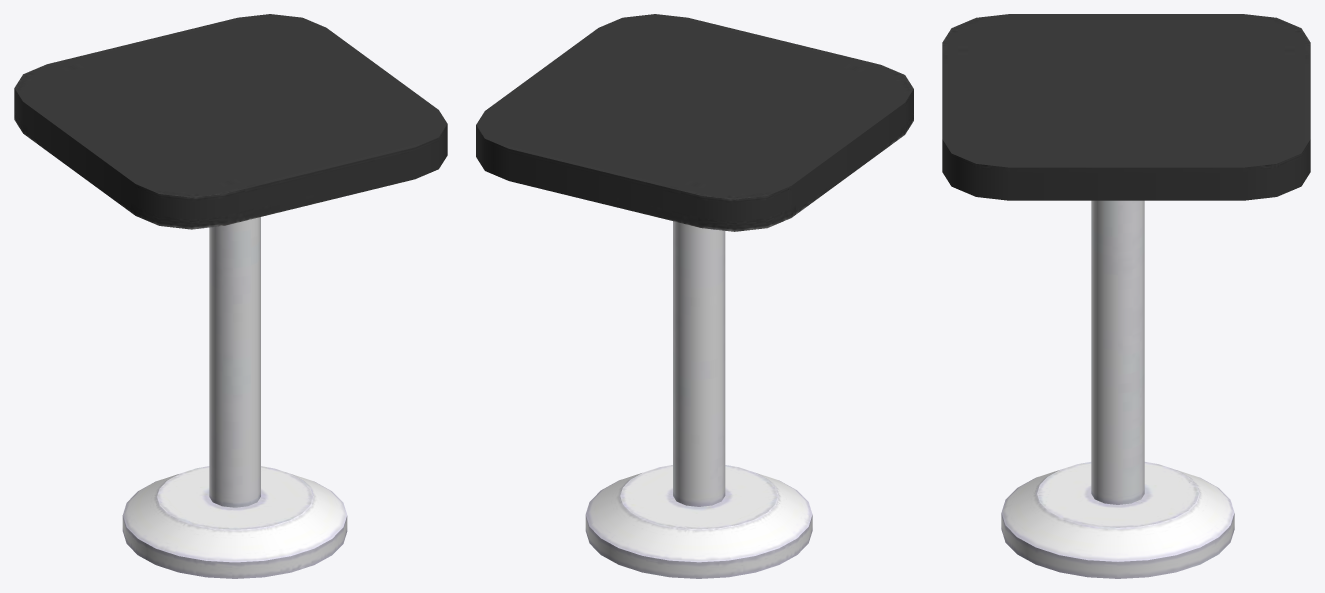
The model's file is Furn_Stool.glb.
3 renders of one model, left to right at view 1: azimuth 30°, elevation 25°; view 2: azimuth 150°, elevation 25°; view 3: azimuth 270°, elevation 25°, orthographic. The views are drawn at different scales.
Visible parts, largest first — view 1: Furn_Stool; view 2: Furn_Stool; view 3: Furn_Stool.
Boxes of the visible parts, bbox=[...] form: Furn_Stool: bbox=[14, 14, 447, 578]; Furn_Stool: bbox=[476, 14, 913, 578]; Furn_Stool: bbox=[942, 14, 1310, 578].
Bounding box in the file's own units: 0.4775 × 0.6359 × 0.4833.
Materials: 1 (1 with a texture image).
